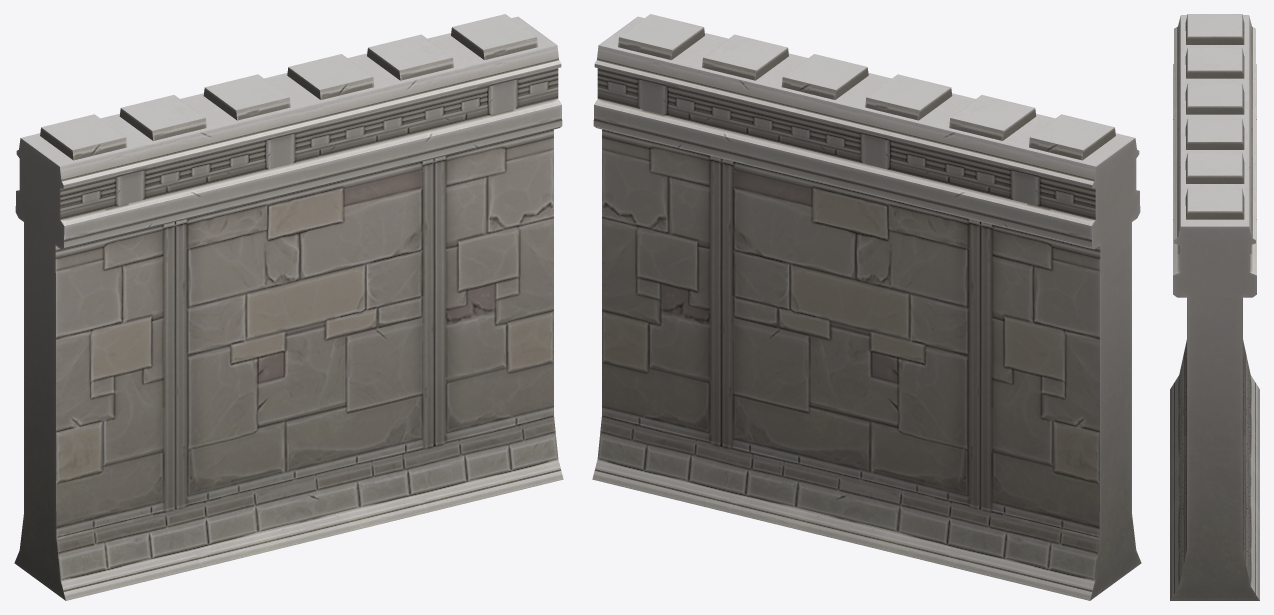
Rendered from mod_zlc_jianzhu029_xy.FBX.
The picture shows the model from 3 angles, left to right: view 1: azimuth 30°, elevation 25°; view 2: azimuth 150°, elevation 25°; view 3: azimuth 270°, elevation 25°; orthographic projection. The views are drawn at different scales.
Visible parts, largest first — view 1: mod_zlc_jianzhu029_xy; view 2: mod_zlc_jianzhu029_xy; view 3: mod_zlc_jianzhu029_xy.
Part boxes in pixels (bbox=[...]): mod_zlc_jianzhu029_xy: bbox=[14, 14, 563, 600]; mod_zlc_jianzhu029_xy: bbox=[592, 14, 1141, 600]; mod_zlc_jianzhu029_xy: bbox=[1170, 14, 1259, 600].
Bounding box in the file's own units: 1541 × 1298 × 276.
